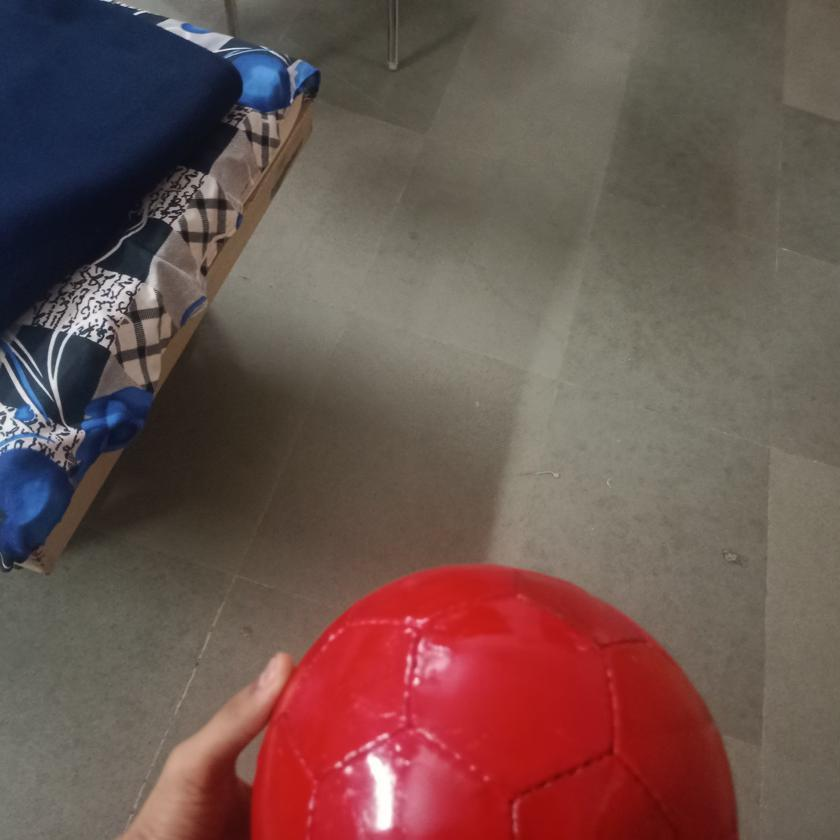Red_Ball: (247, 555, 743, 840)
